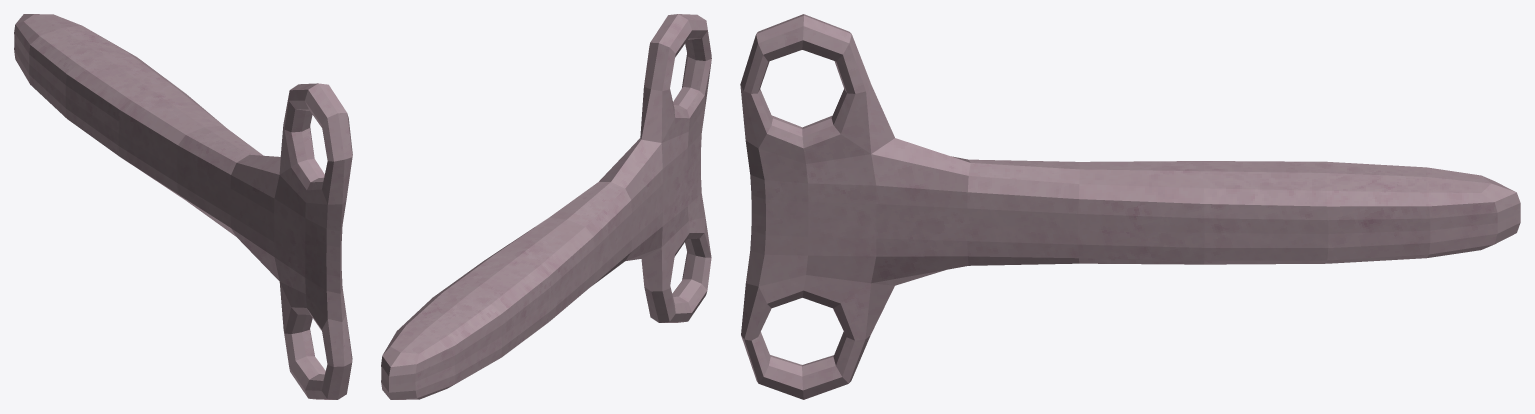
Rendered from key.glb.
3 views of the same model, side by side, from view 1: azimuth 30°, elevation 25°; view 2: azimuth 150°, elevation 25°; view 3: azimuth 270°, elevation 25° (orthographic). The views are drawn at different scales.
Visible parts, largest first — view 1: key; view 2: key; view 3: key.
Boxes of the visible parts, left/top/right/bottom form: key: left=14, top=14, right=352, bottom=399; key: left=381, top=14, right=711, bottom=399; key: left=740, top=14, right=1520, bottom=399.
Size of the model in its own units: 0.00902 by 0.0377 by 0.0696.
Materials: 1 (1 with a texture image).
